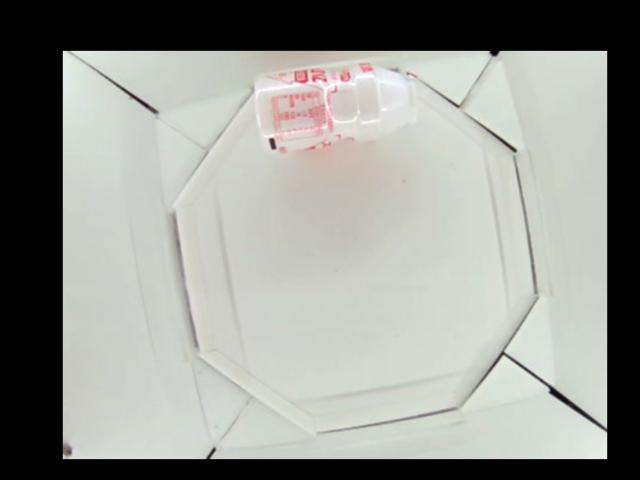Bottle: (252, 61, 420, 152)
